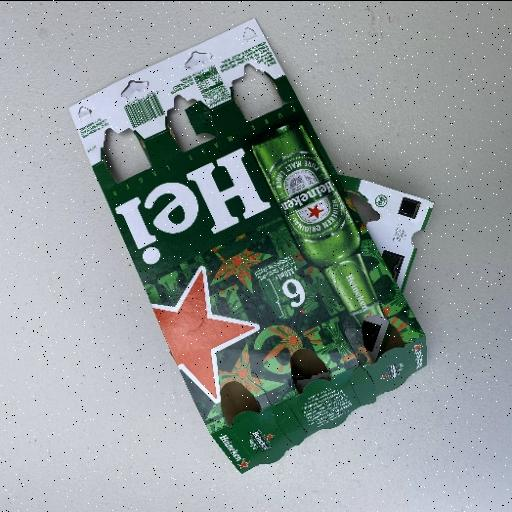Cardboard: (67, 16, 435, 474)
